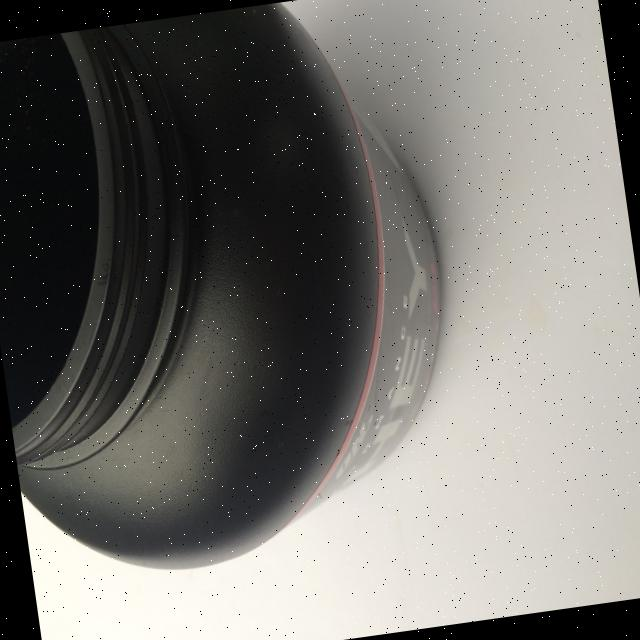plastic: (0, 0, 476, 591)
